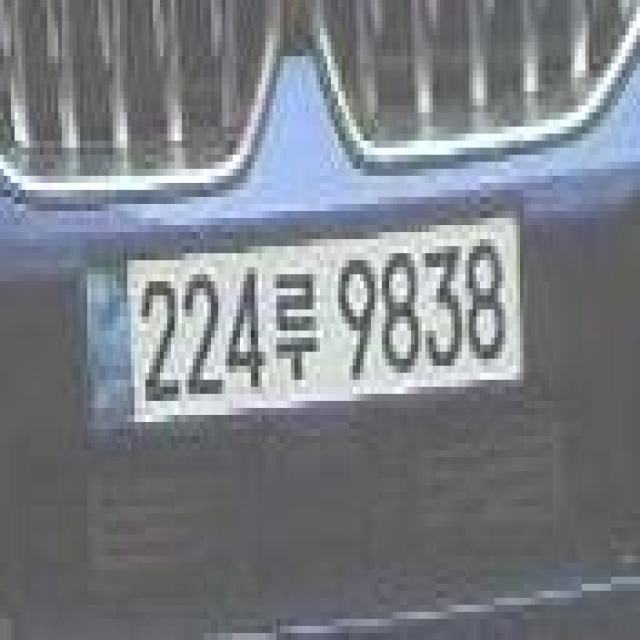illegal_plate: (71, 202, 532, 452)
